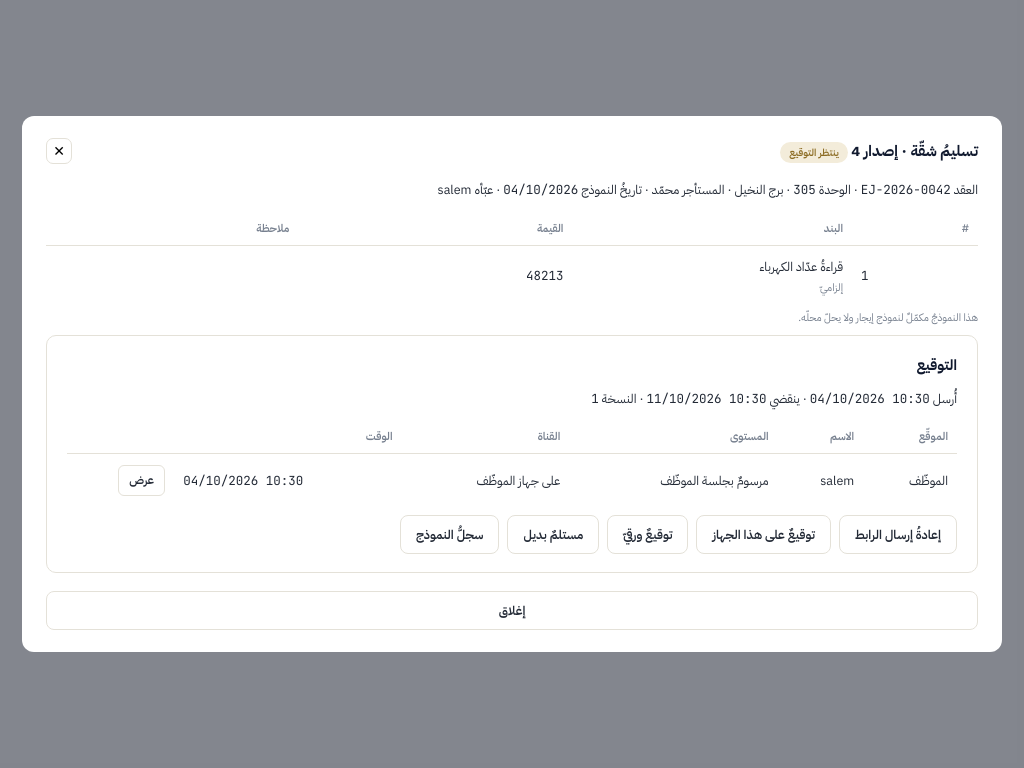
Test: ⚖️ السجلُّ المعبّأ في شاشة «النماذج» (ق-١٦٣٨) › ⭐ المستلمُ البديل «مراجعة»: اسمُه وجوالُه إلزاميّان، ويُرسل طلبُ الموافقة ولا رمزَ يعود للموظّف (توجيه ٢٨٧ ⑦)
Click the button "مستلمٌ بديل".
click(553, 534)  # box x1=507 y1=515 x2=599 y2=554
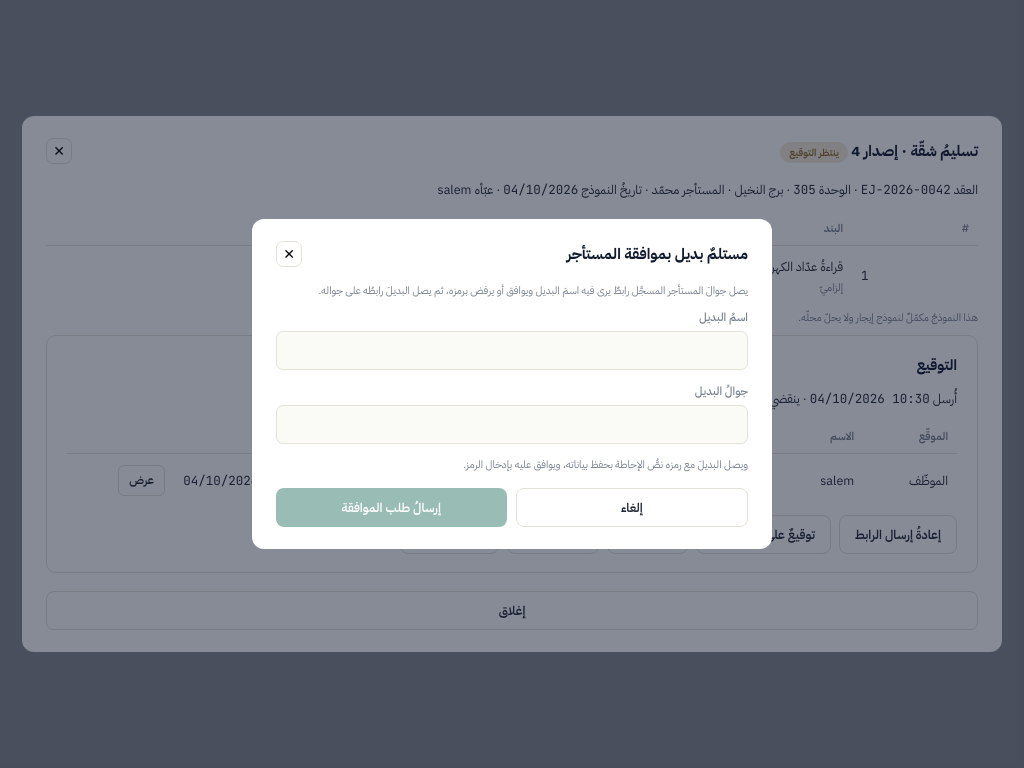
Expected: the button "إرسالُ طلب الموافقة" is disabled, x1=276 y1=488 x2=506 y2=527
Type "أخو المستأجر" into the field named "اسمُ البديل".
click(512, 350); type("أخو المستأجر")  # box x1=276 y1=331 x2=748 y2=370
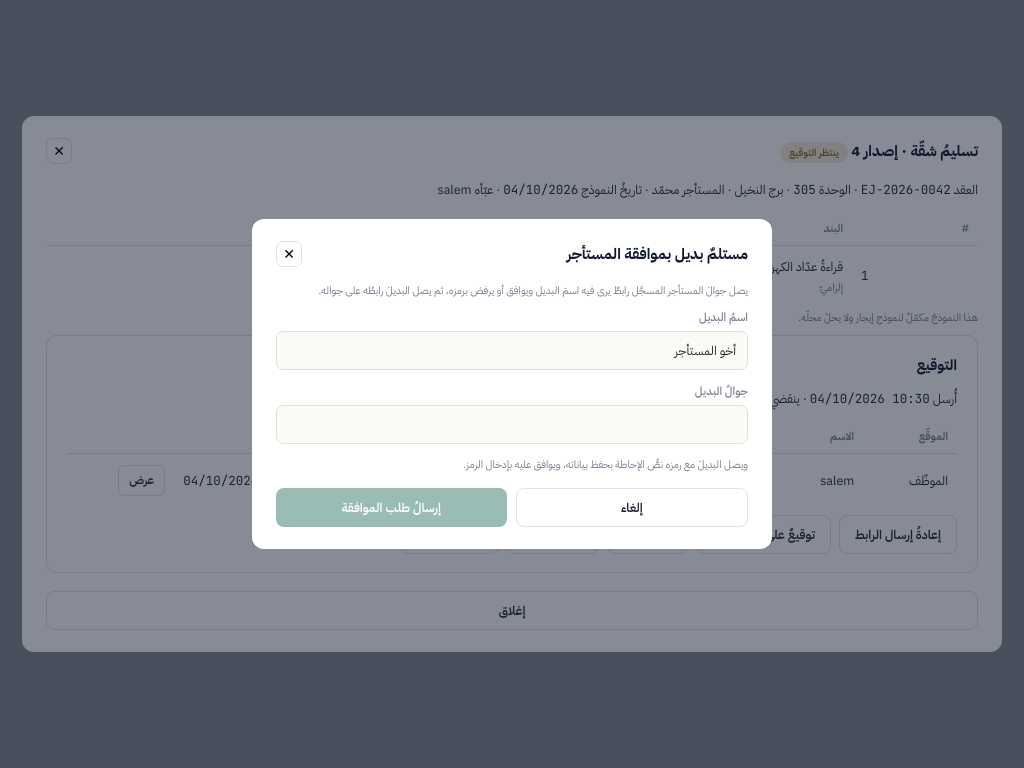
Type "0566123101" into the field named "جوالُ البديل".
click(512, 424); type("0566123101")  # box x1=276 y1=405 x2=748 y2=444
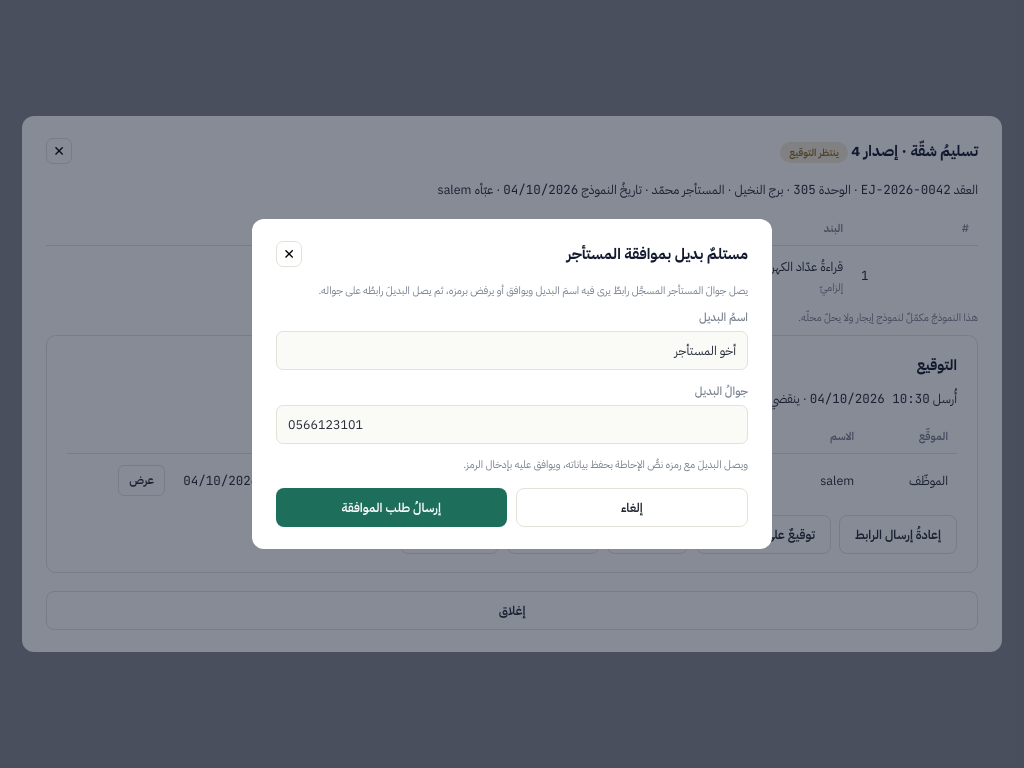
Click the button "إرسالُ طلب الموافقة".
click(391, 507)  # box x1=276 y1=488 x2=506 y2=527
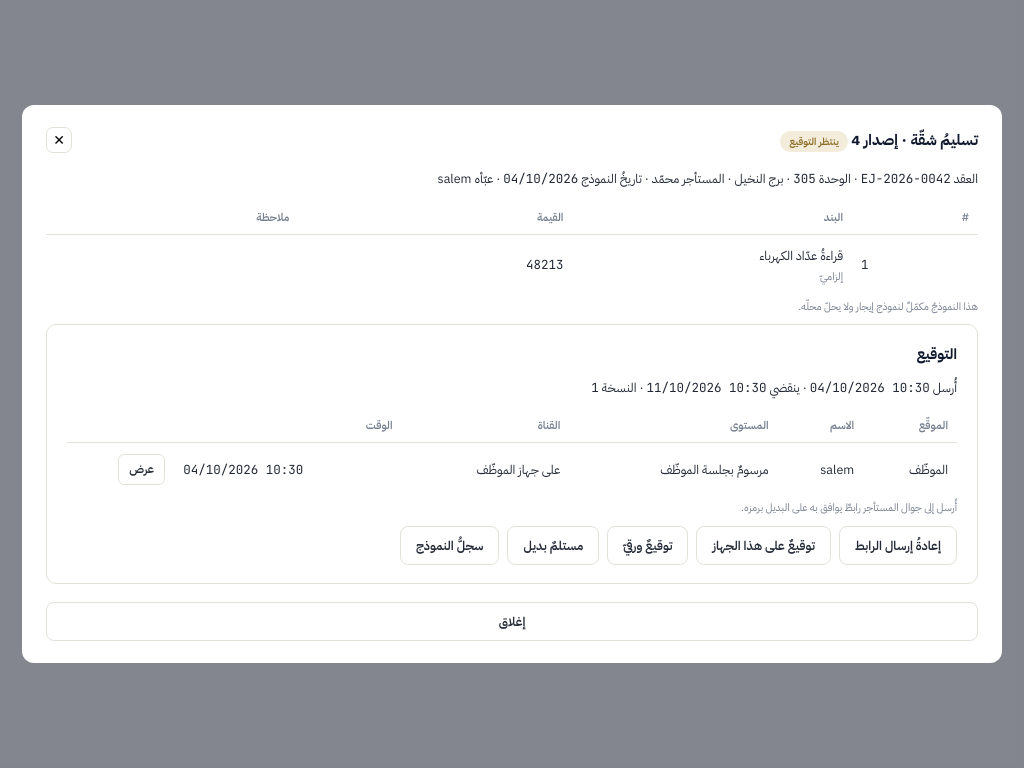
Expected: the text "أُرسل إلى جوال المستأجر رابطٌ يوافق به على البديل برمزه." is shown, x1=741 y1=500 x2=957 y2=515
